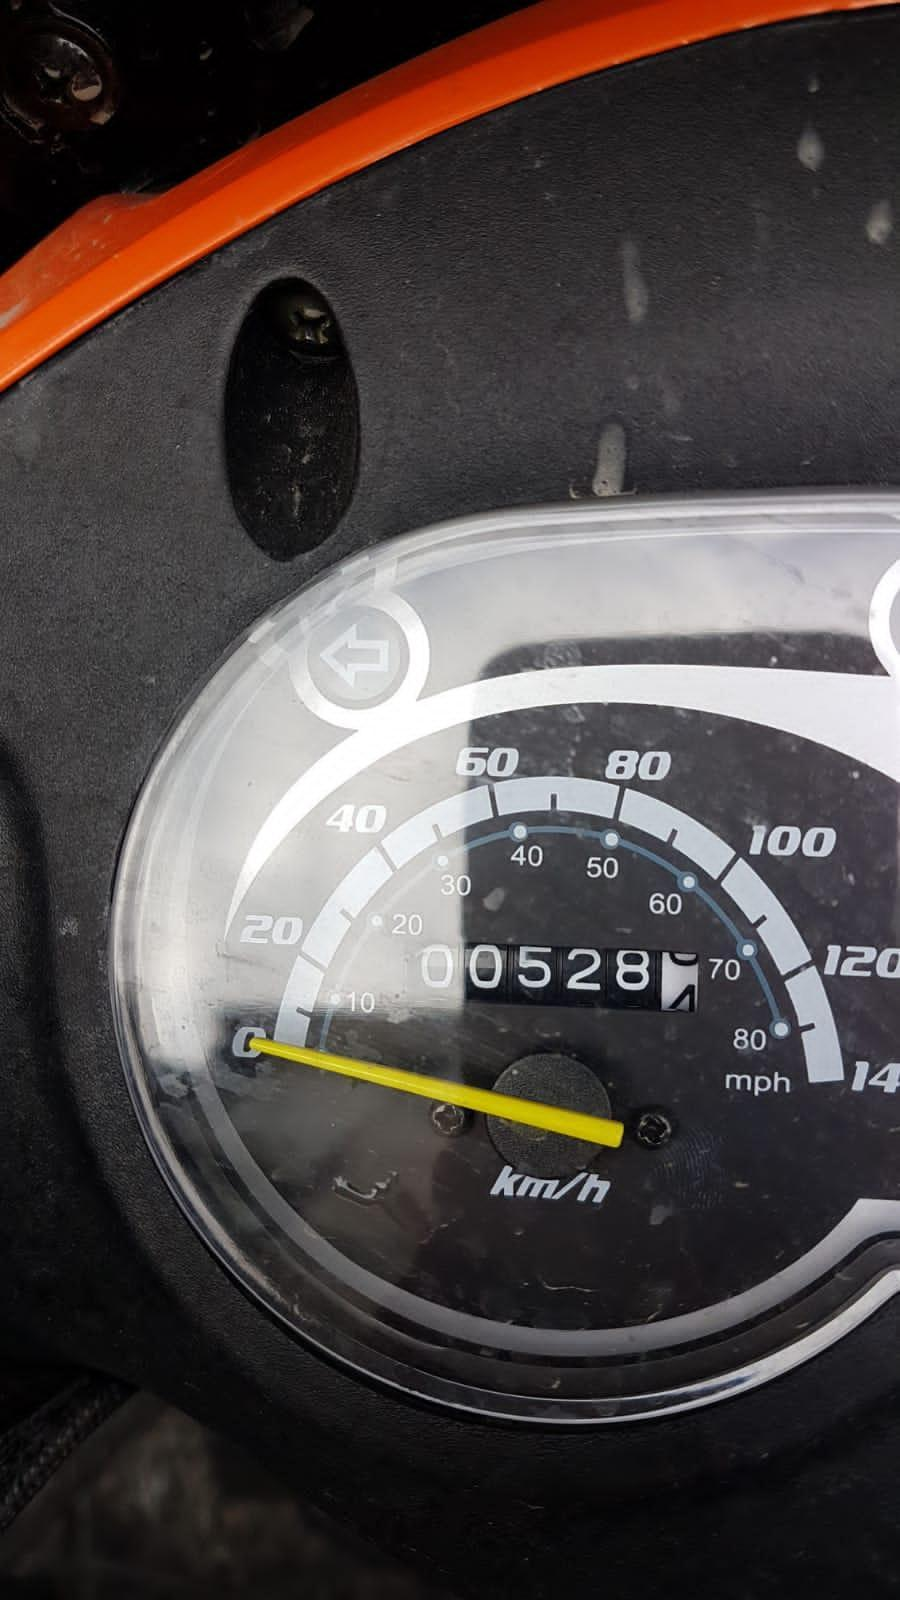0: (467, 943, 502, 989), (420, 942, 454, 989)
2: (565, 947, 602, 991)
4: (666, 982, 699, 1016)
5: (516, 945, 553, 989)
8: (614, 948, 651, 992)
odometer: (396, 937, 701, 1016)
